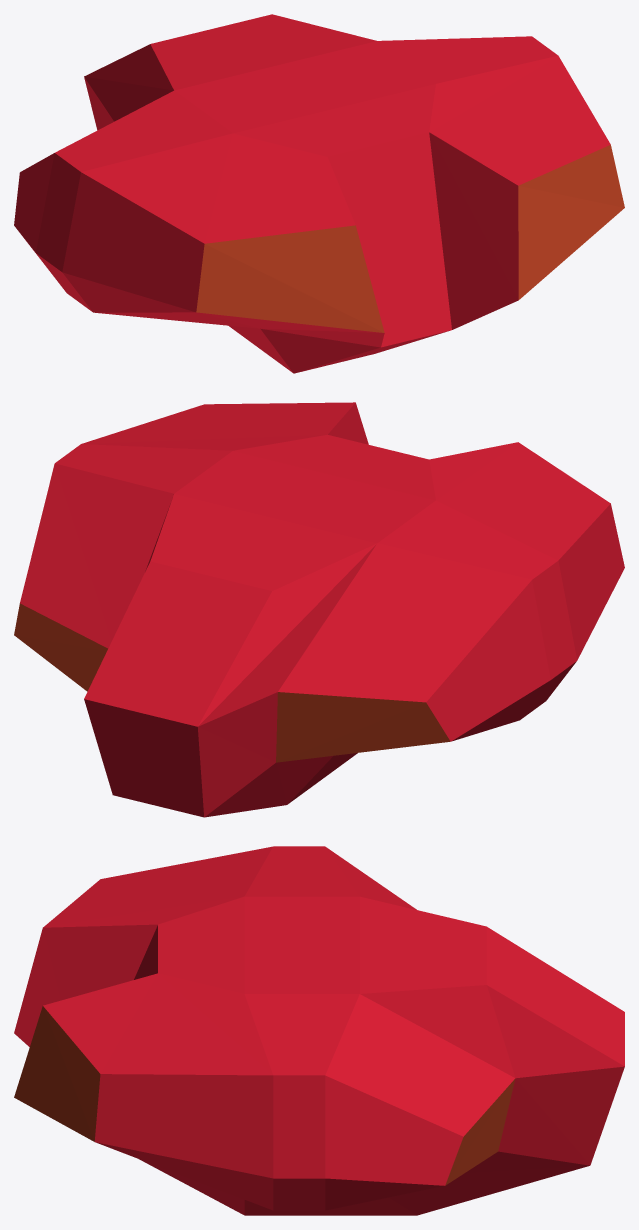
The model's file is Voidkos.FBX.
The picture shows the model from 3 angles, top to bottom: view 1: azimuth 30°, elevation 25°; view 2: azimuth 150°, elevation 25°; view 3: azimuth 270°, elevation 25°; orthographic projection.
Parts seen in each view (by area): view 1: VIFS001, VIFS002; view 2: VIFS001, VIFS002; view 3: VIFS001, VIFS002.
Boxes of the visible parts, x1,y1,x2,y2 form: VIFS001: [14, 14, 610, 373]; VIFS002: [196, 144, 624, 332]; VIFS001: [20, 402, 624, 817]; VIFS002: [14, 603, 450, 762]; VIFS001: [14, 846, 624, 1215]; VIFS002: [14, 1006, 515, 1185].
Size of the model in its own units: 1.01 by 0.48 by 1.06.
